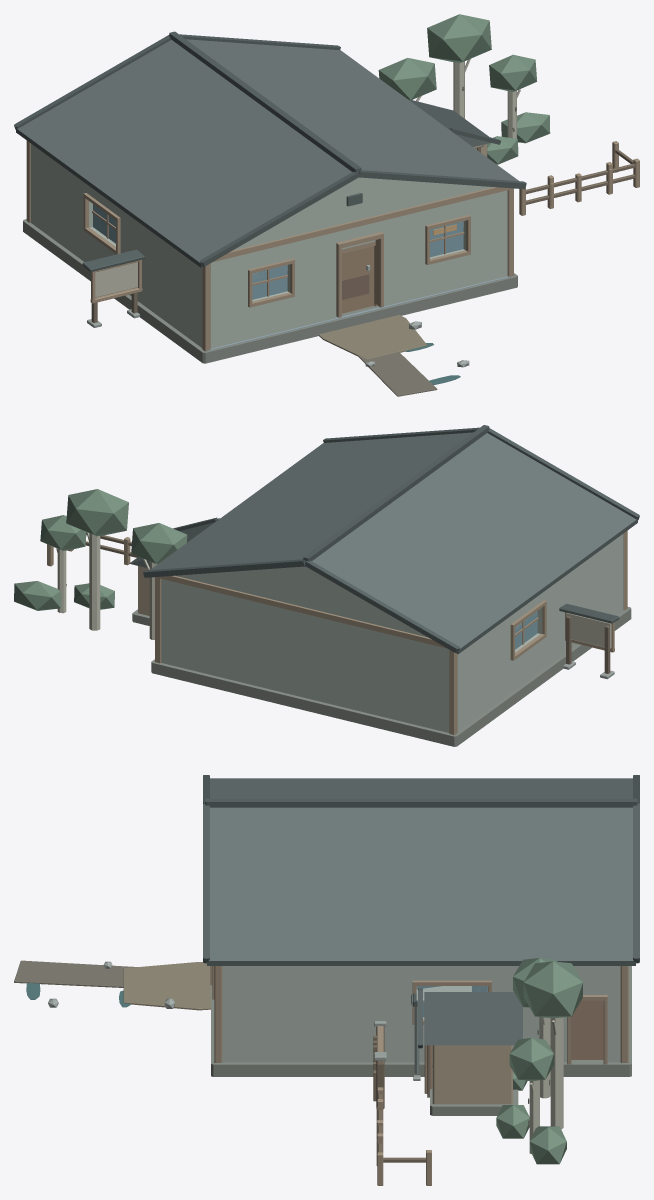
File: urman_fap_clinic_kit.glb
3 renders of one model, top to bottom at view 1: azimuth 30°, elevation 25°; view 2: azimuth 150°, elevation 25°; view 3: azimuth 270°, elevation 25°, orthographic. The views are drawn at different scales.
Parts seen in each view (by area): view 1: FapFacade_Roof_LOD0, FapFacade_Body_LOD0, FapFacade_Foundation_LOD0, FapFacade_Gable_LOD0, FapPathPuddleCluster_PathCore_LOD0, FapBirchShrubMass_Crown_01_LOD0, FapFacade_RidgeCap_LOD0, FapFacade_FrontCourse_LOD0, FapPathPuddleCluster_PathFork_LOD0, FapBirchShrubMass_Crown_00_LOD0, FapFacade_RoofEdge_L_LOD0, FapBirchShrubMass_Crown_02_LOD0 (+18 smaller); view 2: FapFacade_Roof_LOD0, FapFacade_Body_LOD0, FapFacade_Foundation_LOD0, FapFacade_Gable_LOD0, FapBirchShrubMass_Crown_01_LOD0, FapFacade_RidgeCap_LOD0, FapFacade_BackCourse_LOD0, FapBirchShrubMass_Crown_00_LOD0, FapFacade_RoofEdgeBack_L_LOD0, FapBirchShrubMass_Crown_02_LOD0, FapFacade_RoofEdgeBack_R_LOD0, FapBirchShrubMass_Understory_03_LOD0 (+10 smaller); view 3: FapFacade_Roof_LOD0, FapFacade_Body_LOD0, FapServiceShed_Roof_LOD0, FapServiceShed_Body_LOD0, FapFacade_Foundation_LOD0, FapFacade_RidgeCap_LOD0, FapPathPuddleCluster_PathCore_LOD0, FapBirchShrubMass_Crown_01_LOD0, FapPathPuddleCluster_PathFork_LOD0, FapFacade_ServiceDoor_LOD0, FapBirchShrubMass_Crown_02_LOD0, FapBirchShrubMass_Trunk_01_LOD0 (+8 smaller).
Part boxes in pixels (left/top/right/bottom): FapFacade_Roof_LOD0: left=16, top=39, right=524, bottom=267; FapFacade_Body_LOD0: left=31, top=144, right=507, bottom=348; FapFacade_Foundation_LOD0: left=23, top=219, right=517, bottom=363; FapFacade_Gable_LOD0: left=232, top=177, right=492, bottom=250; FapPathPuddleCluster_PathCore_LOD0: left=318, top=315, right=427, bottom=359; FapBirchShrubMass_Crown_01_LOD0: left=427, top=14, right=491, bottom=63; FapFacade_RidgeCap_LOD0: left=169, top=31, right=361, bottom=172; FapFacade_FrontCourse_LOD0: left=213, top=187, right=513, bottom=261; FapPathPuddleCluster_PathFork_LOD0: left=358, top=352, right=437, bottom=396; FapBirchShrubMass_Crown_00_LOD0: left=378, top=58, right=436, bottom=100; FapFacade_RoofEdge_L_LOD0: left=200, top=171, right=359, bottom=266; FapBirchShrubMass_Crown_02_LOD0: left=489, top=54, right=536, bottom=91; FapFacade_Roof_LOD0: left=144, top=432, right=637, bottom=654; FapFacade_Body_LOD0: left=161, top=533, right=623, bottom=732; FapFacade_Foundation_LOD0: left=151, top=607, right=631, bottom=746; FapFacade_Gable_LOD0: left=175, top=566, right=427, bottom=637; FapBirchShrubMass_Crown_01_LOD0: left=66, top=489, right=128, bottom=536; FapFacade_RidgeCap_LOD0: left=303, top=425, right=489, bottom=561; FapFacade_BackCourse_LOD0: left=155, top=575, right=446, bottom=648; FapBirchShrubMass_Crown_00_LOD0: left=131, top=523, right=187, bottom=564; FapFacade_RoofEdgeBack_L_LOD0: left=305, top=560, right=459, bottom=652; FapBirchShrubMass_Crown_02_LOD0: left=40, top=515, right=86, bottom=550; FapFacade_RoofEdgeBack_R_LOD0: left=143, top=559, right=305, bottom=577; FapBirchShrubMass_Understory_03_LOD0: left=14, top=581, right=61, bottom=610; FapFacade_Roof_LOD0: left=207, top=778, right=635, bottom=965; FapFacade_Body_LOD0: left=222, top=966, right=620, bottom=1062; FapServiceShed_Roof_LOD0: left=424, top=992, right=522, bottom=1045; FapServiceShed_Body_LOD0: left=432, top=1045, right=512, bottom=1104; FapFacade_Foundation_LOD0: left=211, top=966, right=631, bottom=1076; FapFacade_RidgeCap_LOD0: left=205, top=798, right=637, bottom=807; FapPathPuddleCluster_PathCore_LOD0: left=123, top=962, right=210, bottom=1010; FapBirchShrubMass_Crown_01_LOD0: left=523, top=961, right=582, bottom=1017; FapPathPuddleCluster_PathFork_LOD0: left=14, top=960, right=136, bottom=987; FapFacade_ServiceDoor_LOD0: left=571, top=1000, right=603, bottom=1059; FapBirchShrubMass_Crown_02_LOD0: left=509, top=1038, right=553, bottom=1080; FapBirchShrubMass_Trunk_01_LOD0: left=550, top=1017, right=563, bottom=1129.
Size of what is drawn, in the model's own units: 21.8 by 6.08 by 18.28.
